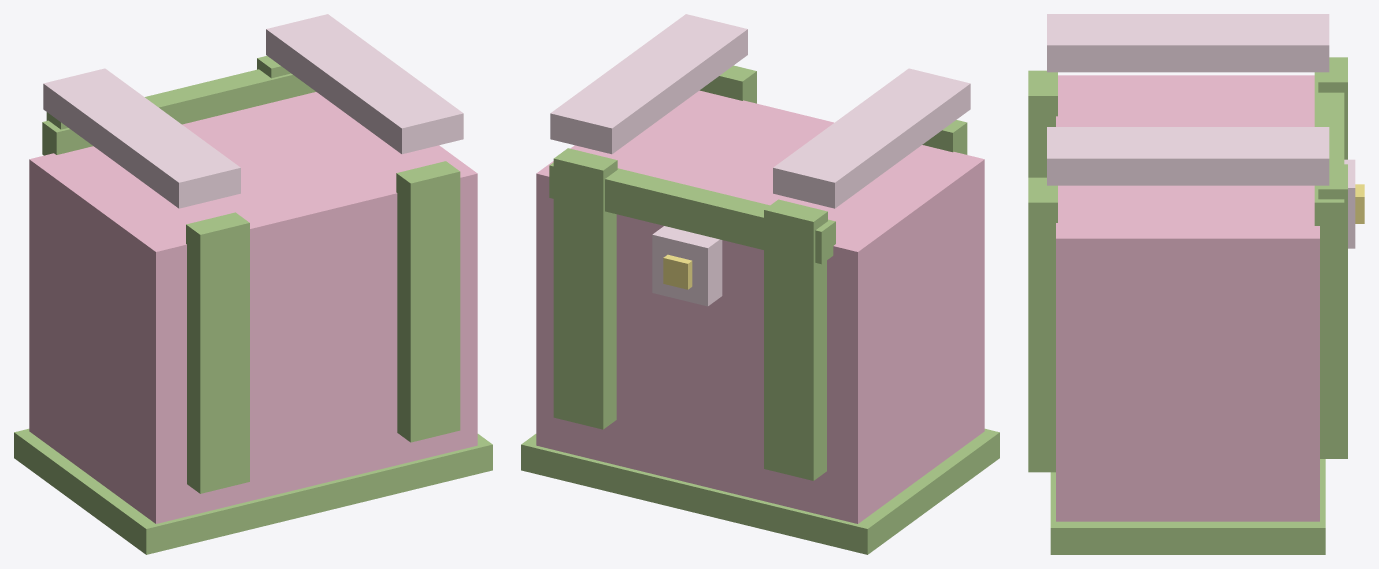
File: fada_tronco.glb
3 renders of one model, left to right at view 1: azimuth 30°, elevation 25°; view 2: azimuth 150°, elevation 25°; view 3: azimuth 270°, elevation 25°, orthographic. The views are drawn at different scales.
Visible parts, largest first — view 1: fada_tronco; view 2: fada_tronco; view 3: fada_tronco.
Part boxes in pixels (x1,y1,x2,y2): fada_tronco: (14, 14, 492, 554); fada_tronco: (521, 14, 999, 554); fada_tronco: (1028, 14, 1364, 554).
Bounding box in the file's own units: 0.56 × 0.565 × 0.4525.
